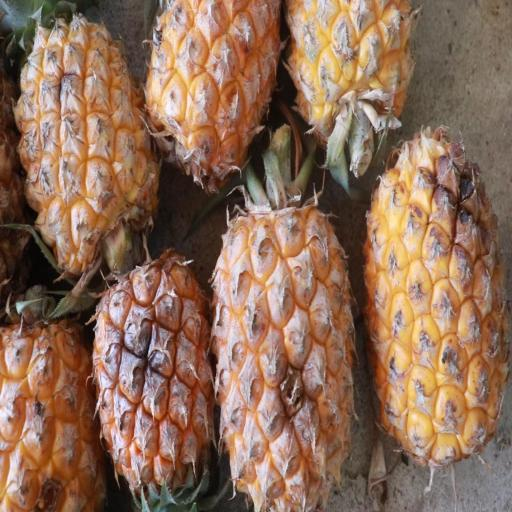Pineapple - v8 v1: (206, 149, 358, 512), (359, 127, 512, 482), (17, 0, 169, 290), (89, 236, 213, 502), (144, 0, 285, 189), (0, 292, 111, 508), (286, 0, 427, 165)
